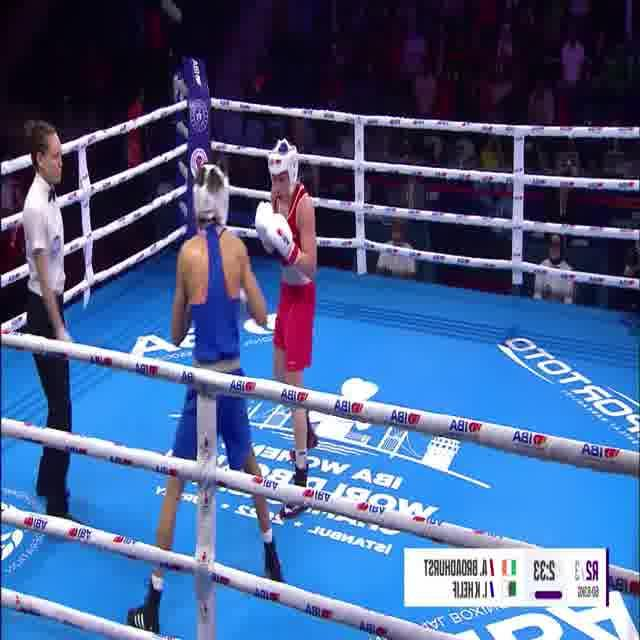blue-player: (124, 159, 284, 640)
red-player: (253, 136, 320, 521)
referee: (20, 115, 81, 529)
